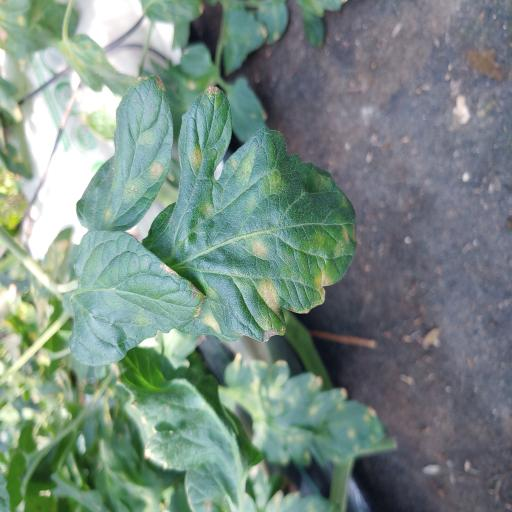Leaf Mold: (140, 88, 357, 344), (220, 353, 397, 467), (69, 231, 203, 368), (75, 75, 174, 233)
